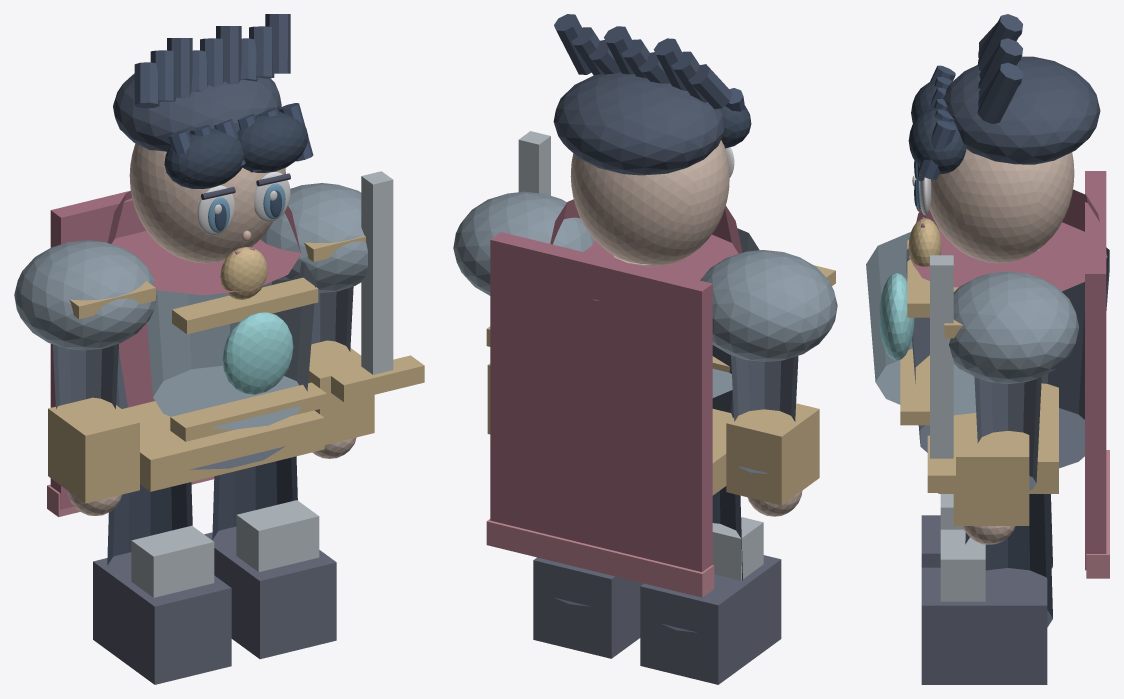
File: hero.glb
3 renders of one model, left to right at view 1: azimuth 30°, elevation 25°; view 2: azimuth 150°, elevation 25°; view 3: azimuth 270°, elevation 25°, orthographic.
Parts seen in each view (by area): view 1: boot0, shoulder0, breastplate, boot1, belt, face, gauntlet0, shoulder1, hair, blade_detail, cape, collar (+29 smaller); view 2: cape, hair, face, boot0, shoulder0, boot1, gauntlet0, shoulder1, cape_hem, arm0, collar, knee0 (+15 smaller); view 3: boot1, face, shoulder1, hair, cape, gauntlet1, collar, chest, blade_detail, breastplate, arm1, leg1 (+18 smaller).
Boxes of the visible parts, x1=… form: boot0: x1=93, y1=552, x2=231, y2=684; shoulder0: x1=14, y1=240, x2=157, y2=350; breastplate: x1=147, y1=261, x2=316, y2=429; boot1: x1=204, y1=526, x2=336, y2=659; belt: x1=122, y1=401, x2=324, y2=491; face: x1=129, y1=143, x2=285, y2=263; gauntlet0: x1=48, y1=397, x2=139, y2=503; shoulder1: x1=260, y1=183, x2=367, y2=293; hair: x1=113, y1=73, x2=281, y2=151; blade_detail: x1=361, y1=171, x2=393, y2=374; cape: x1=50, y1=190, x2=154, y2=509; collar: x1=107, y1=191, x2=300, y2=295; cape: x1=490, y1=232, x2=712, y2=571; hair: x1=553, y1=72, x2=725, y2=175; face: x1=570, y1=140, x2=729, y2=266; boot0: x1=640, y1=555, x2=781, y2=684; shoulder0: x1=700, y1=250, x2=837, y2=361; boot1: x1=533, y1=557, x2=643, y2=658; gauntlet0: x1=726, y1=403, x2=819, y2=505; shoulder1: x1=453, y1=191, x2=594, y2=295; cape_hem: x1=486, y1=519, x2=714, y2=597; arm0: x1=731, y1=355, x2=798, y2=473; collar: x1=550, y1=199, x2=742, y2=300; knee0: x1=712, y1=517, x2=763, y2=580; boot1: x1=921, y1=567, x2=1047, y2=684; face: x1=929, y1=149, x2=1074, y2=263; shoulder1: x1=949, y1=271, x2=1078, y2=384; hair: x1=943, y1=56, x2=1100, y2=164; cape: x1=1085, y1=171, x2=1106, y2=570; gauntlet1: x1=953, y1=430, x2=1029, y2=525; collar: x1=908, y1=189, x2=1107, y2=291; chest: x1=906, y1=247, x2=1109, y2=468; blade_detail: x1=930, y1=255, x2=953, y2=458; breastplate: x1=866, y1=232, x2=976, y2=415; arm1: x1=974, y1=377, x2=1041, y2=490; leg1: x1=965, y1=494, x2=1052, y2=627.
Bounding box in the file's own units: 1.79 × 2.85 × 1.03.
